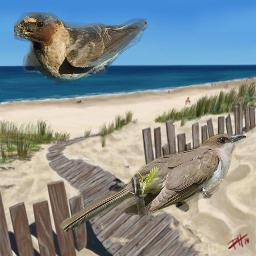Cuckoo: (59, 132, 246, 232)
Swallow: (14, 12, 149, 85)
